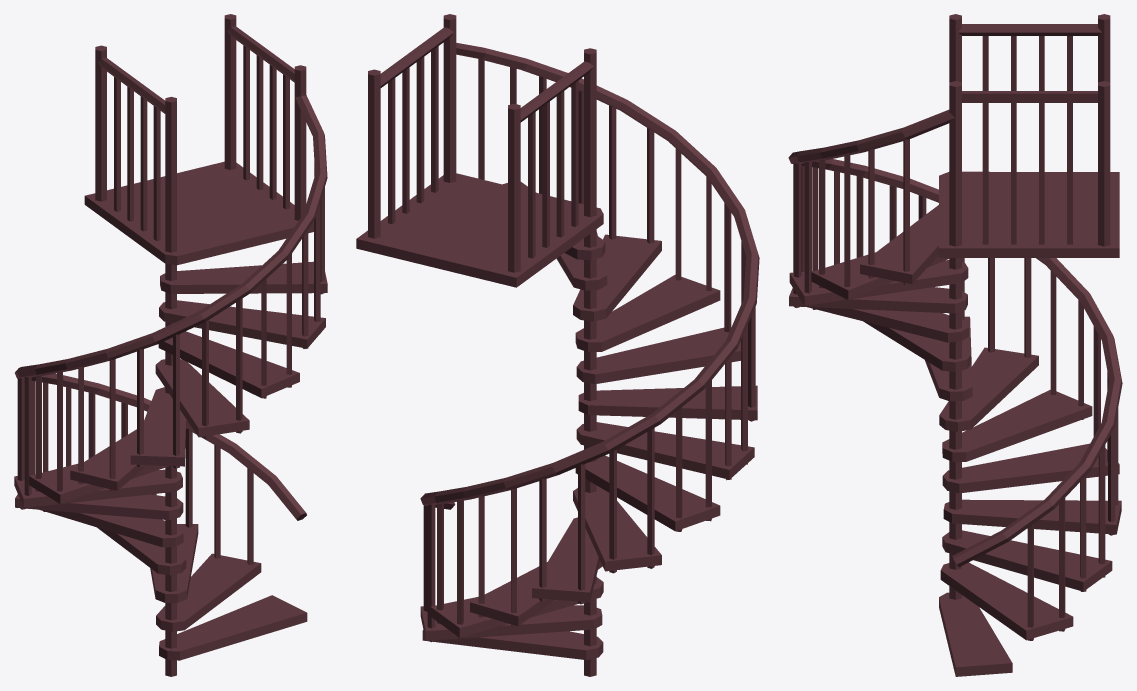
The model's file is stairs-house-spiral-2m.fbx.
3 renders of one model, left to right at view 1: azimuth 30°, elevation 25°; view 2: azimuth 150°, elevation 25°; view 3: azimuth 270°, elevation 25°, orthographic. The views are drawn at different scales.
Visible parts, largest first — view 1: stairs-house-spiral-2m; view 2: stairs-house-spiral-2m; view 3: stairs-house-spiral-2m.
Boxes of the visible parts, box(x1,y1,x2,y2) form: stairs-house-spiral-2m: box(14, 14, 327, 676); stairs-house-spiral-2m: box(356, 14, 759, 676); stairs-house-spiral-2m: box(788, 14, 1122, 676).
Size of the model in its own units: 2.03 by 4.06 by 2.02.
